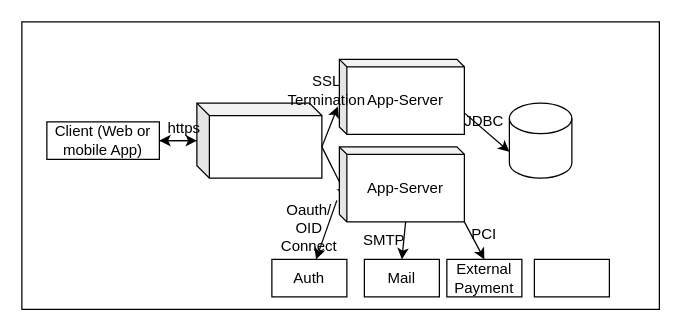
Image size: 681x331. Some labels were removed from this diagram. Each missing label, with the centre of its shape:
"DB" belongs at point 540,140.
"Loadbalancer" belongs at point 259,140.
